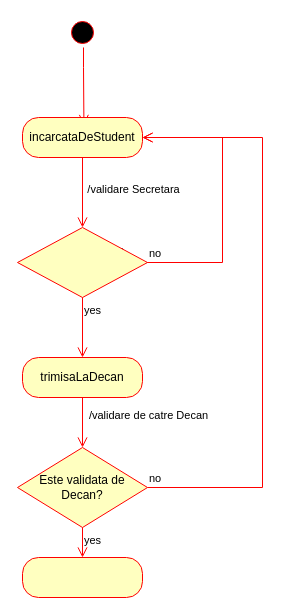
Some shapes in this 290 by 615 pixel diagram are drawn without their labels. The centre of each missing label's shape, as x and y in pixels:
"Este validata de secretara?" goes at [82,262].
"finalizata" goes at [82,577].
